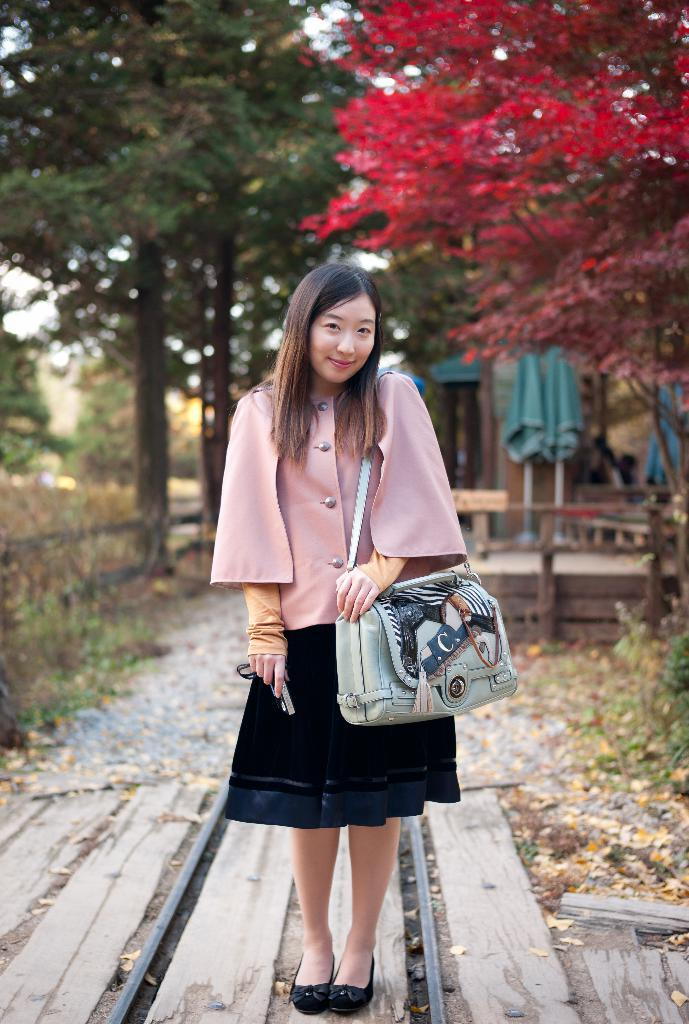Luggage-and-bags: (302, 547, 507, 714)
